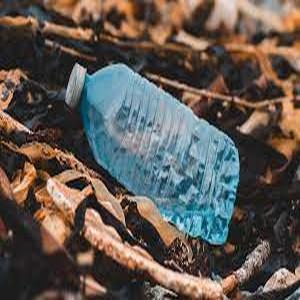Plastic: (60, 59, 240, 247)
